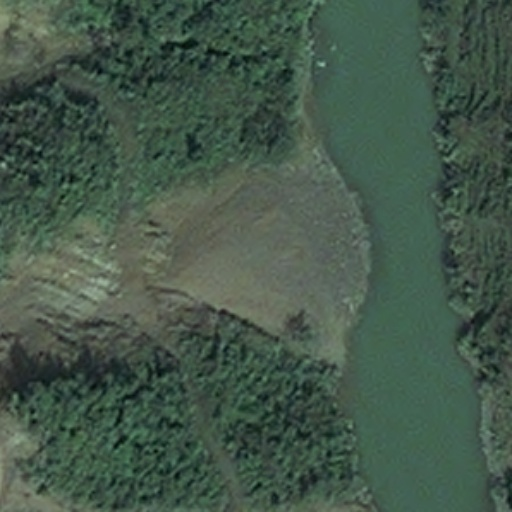landslide: (135, 176, 361, 336)
